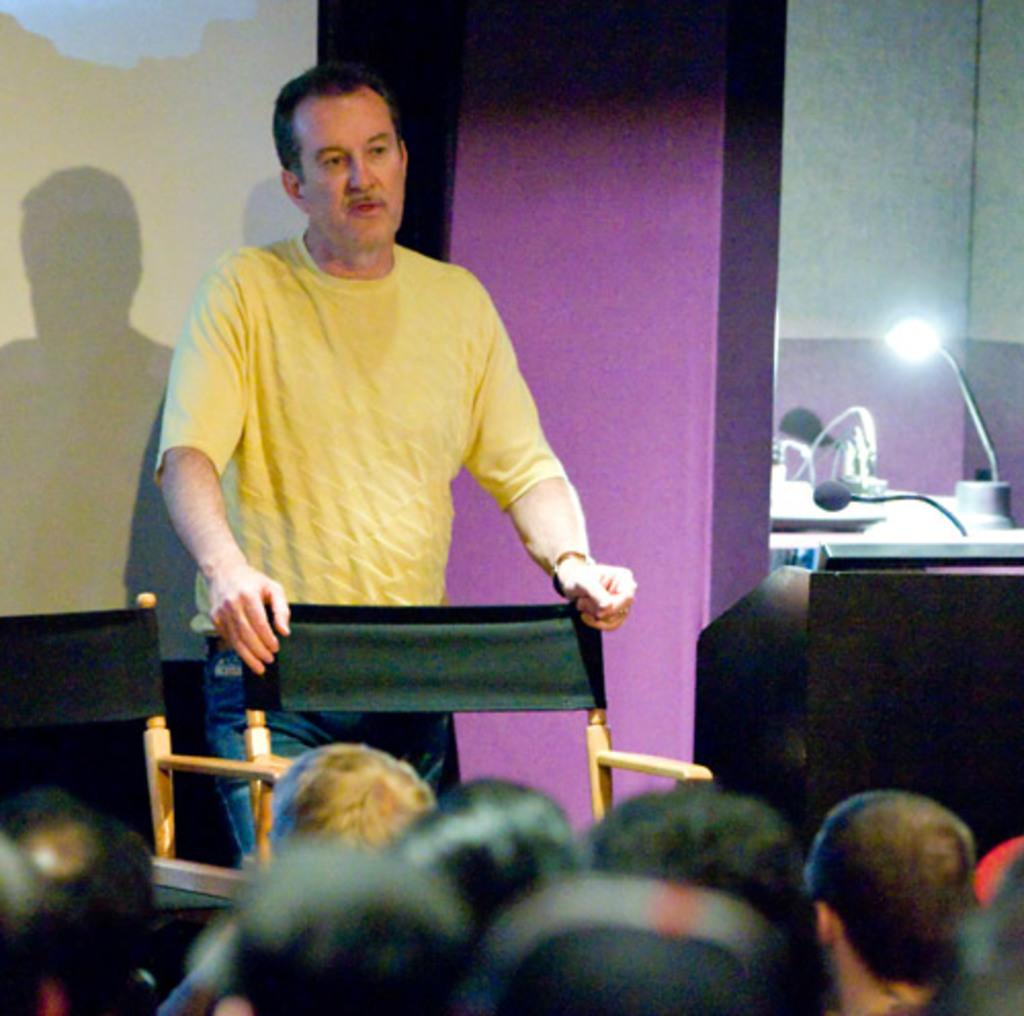Pessoa: (157, 64, 635, 756), (587, 782, 824, 1015), (215, 840, 468, 1015), (805, 789, 975, 1015), (0, 786, 155, 1015), (394, 778, 582, 936), (270, 743, 435, 852)
